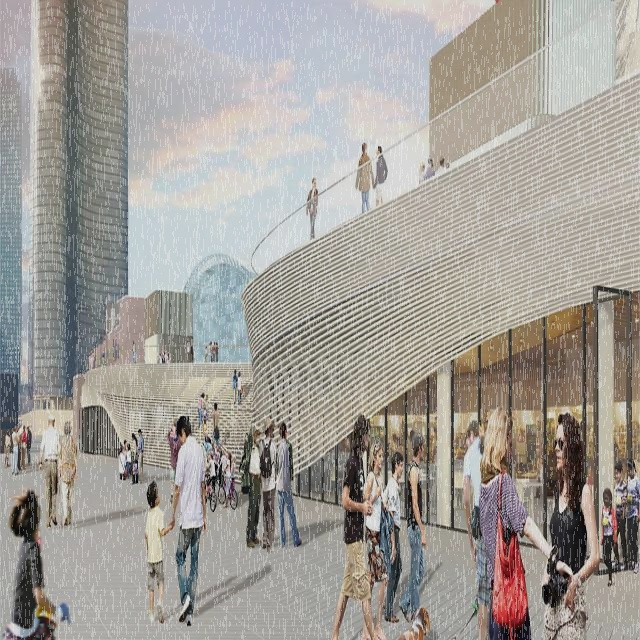pessoa: (477, 400, 576, 639), (540, 408, 602, 639), (329, 410, 386, 640), (0, 484, 73, 639), (167, 412, 208, 630), (358, 436, 388, 639), (462, 419, 489, 639), (398, 431, 427, 625), (144, 479, 176, 625), (382, 450, 404, 624), (274, 422, 304, 548), (238, 422, 263, 550), (36, 411, 62, 532), (257, 412, 278, 554), (55, 416, 80, 528), (598, 484, 619, 589), (610, 458, 628, 572), (624, 454, 640, 576), (354, 140, 376, 214), (166, 424, 182, 504), (304, 174, 319, 243), (372, 144, 388, 207), (203, 449, 217, 504), (222, 448, 232, 509), (10, 422, 21, 477), (130, 431, 139, 486), (210, 401, 220, 449), (136, 426, 144, 484), (14, 423, 23, 472), (217, 448, 227, 488), (118, 444, 128, 482), (228, 452, 236, 499), (20, 424, 27, 472), (4, 428, 12, 468), (423, 158, 436, 182), (25, 424, 32, 467), (430, 424, 437, 464), (213, 444, 220, 484), (198, 391, 205, 431), (218, 442, 224, 488), (231, 368, 238, 406), (126, 442, 132, 480), (186, 413, 192, 448), (236, 370, 242, 405), (170, 416, 178, 442), (201, 415, 209, 438), (402, 430, 409, 456), (188, 335, 194, 364), (419, 163, 427, 184), (396, 436, 405, 454), (205, 438, 214, 456), (436, 154, 445, 172), (391, 432, 398, 454), (242, 432, 248, 457), (131, 340, 137, 364), (206, 341, 212, 364), (89, 346, 95, 368), (204, 394, 209, 419), (186, 336, 190, 364), (122, 438, 128, 456), (203, 344, 208, 364), (409, 428, 416, 442), (208, 340, 212, 363), (212, 340, 216, 363), (162, 348, 168, 363), (579, 419, 583, 441), (215, 341, 219, 363), (483, 417, 488, 434), (156, 352, 162, 365), (166, 350, 171, 364), (101, 353, 105, 369), (160, 349, 164, 364), (12, 424, 17, 432)
